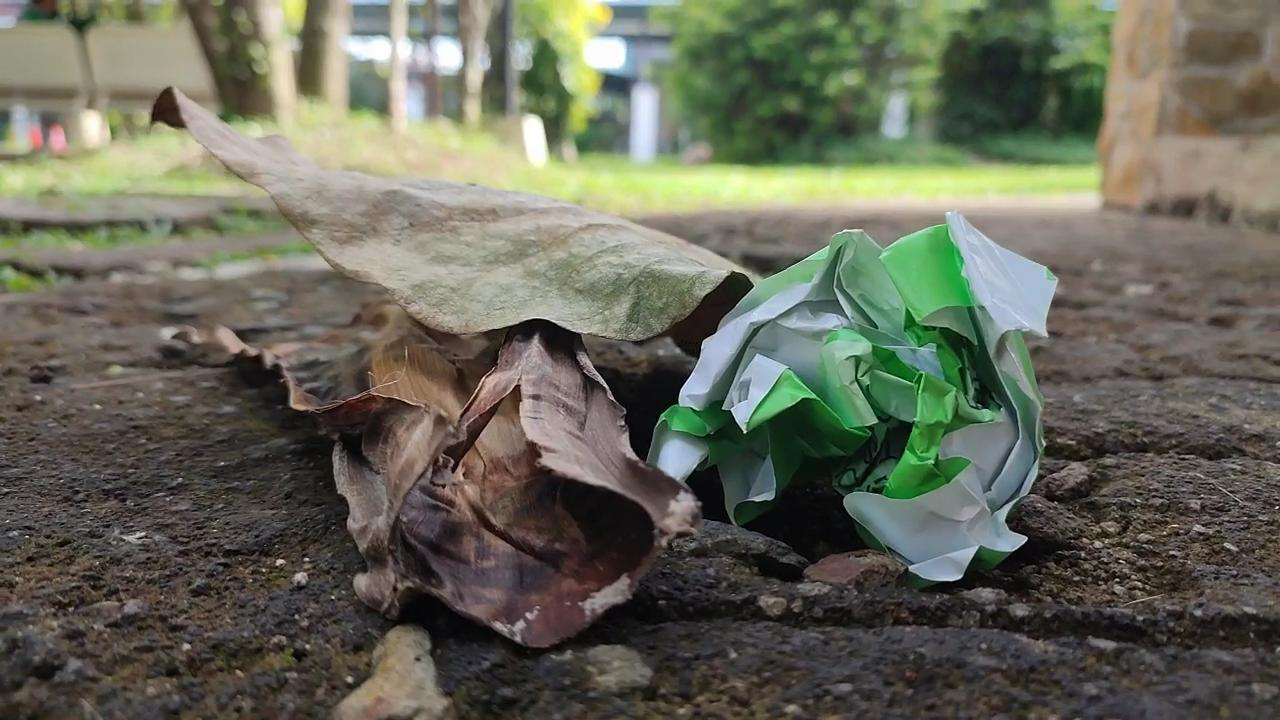Paper: (651, 183, 1065, 590)
